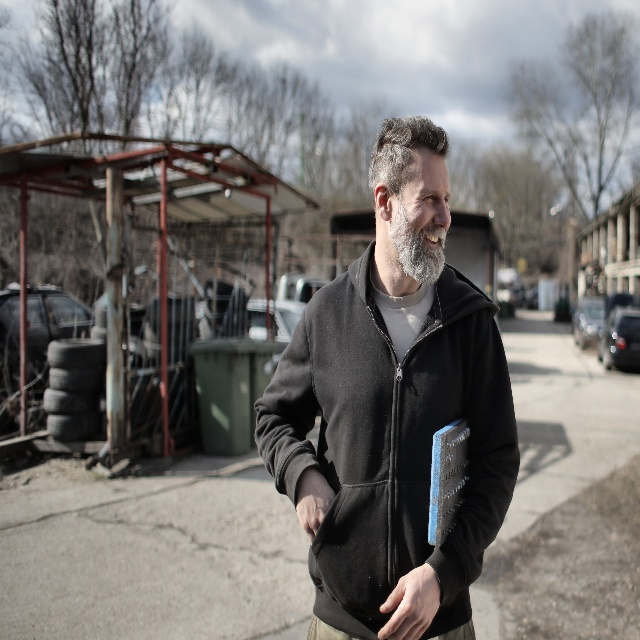Sin_guantes: (377, 564, 441, 640), (294, 470, 337, 544)
